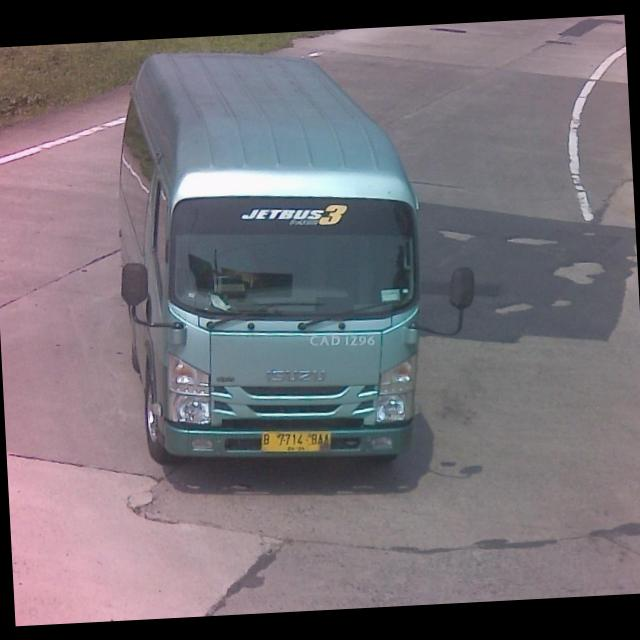plate: (259, 425, 340, 459)
